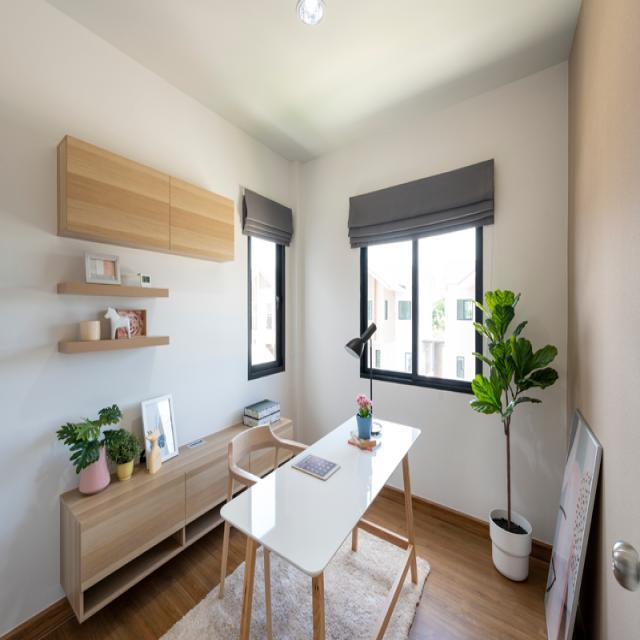table: (211, 394, 421, 630)
